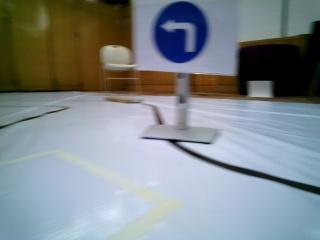left: (139, 0, 225, 64)
